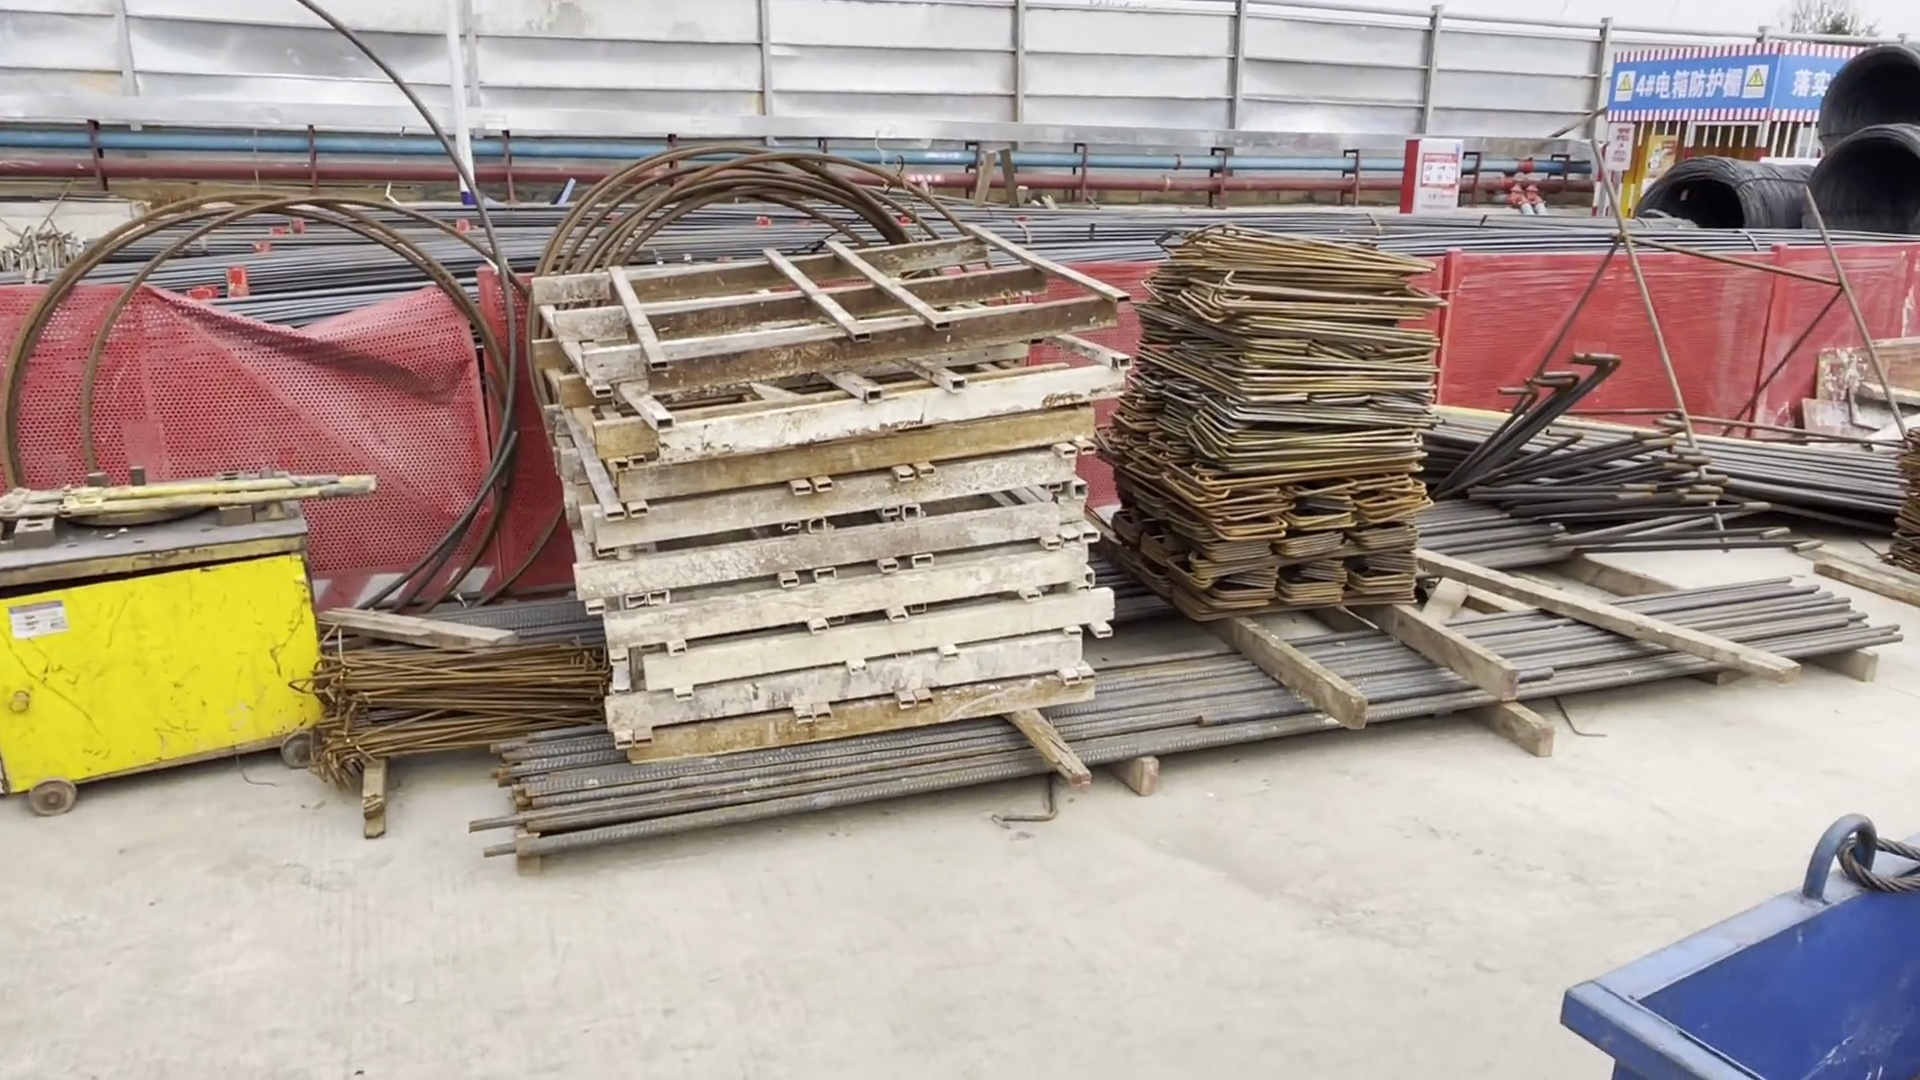fence: (7, 1, 1586, 171)
hopper: (1527, 833, 1898, 1080)
rebar: (501, 588, 1911, 836), (1691, 436, 1894, 516)
slogan: (1614, 65, 1766, 108)
